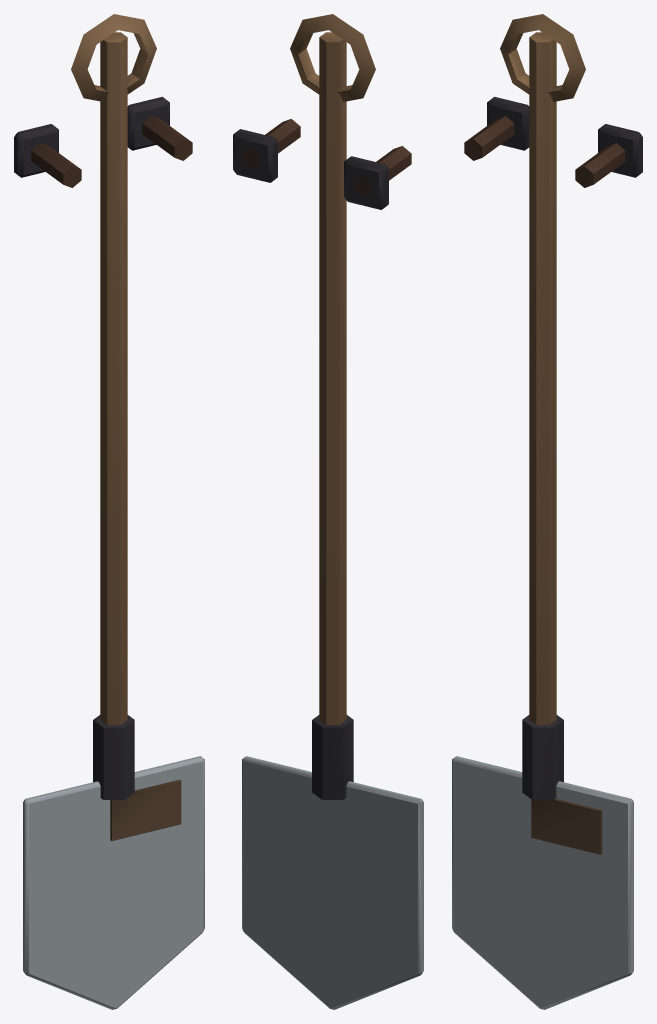
The model's file is shovel_trusty.glb.
3 views of the same model, side by side, from view 1: azimuth 30°, elevation 25°; view 2: azimuth 150°, elevation 25°; view 3: azimuth 330°, elevation 25° (orthographic).
Parts seen in each view (by area): view 1: shovel_trusty; view 2: shovel_trusty; view 3: shovel_trusty.
Part boxes in pixels (x1,y1,x2,y2): shovel_trusty: (14, 14, 204, 1009); shovel_trusty: (233, 14, 423, 1009); shovel_trusty: (452, 14, 642, 1009).
Size of the model in its own units: 0.26 by 1.37 by 0.1.
